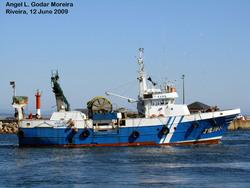otherboat: (9, 42, 242, 152)
